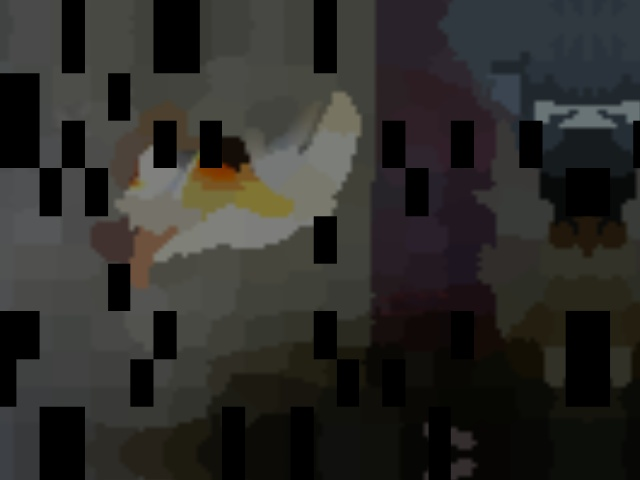three: (294, 143, 337, 178)
